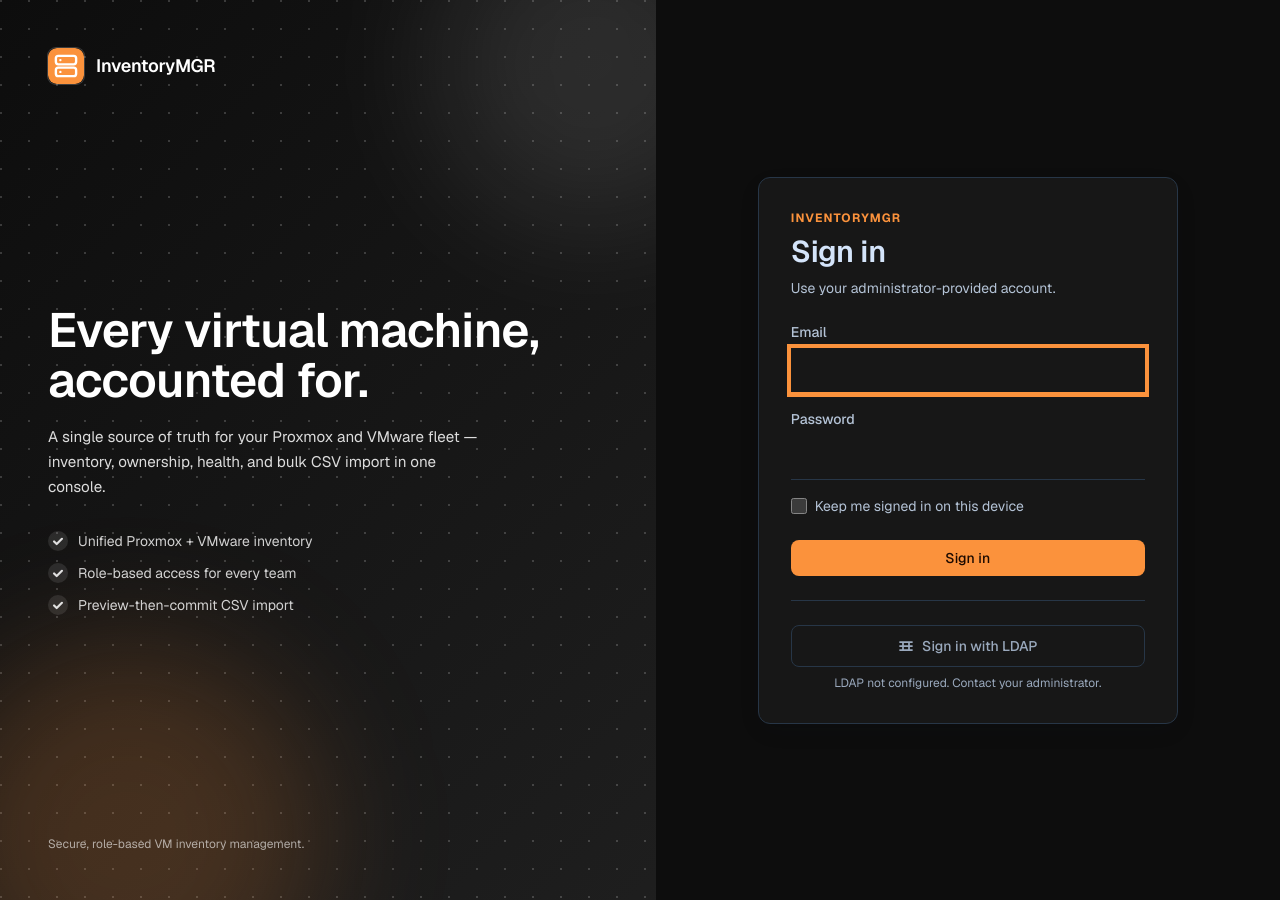
Test: LoginPage sign-in flow › blocks submission and shows field errors when email/password are empty
The image size is (1280, 900).
Expected: the heading "Sign in" is shown, [791,232,886,270]
What coordinates should you click on to do the following:
click the button "Sign in"
I would click on:
 (968, 558)
Its box is [791,540,1145,576].
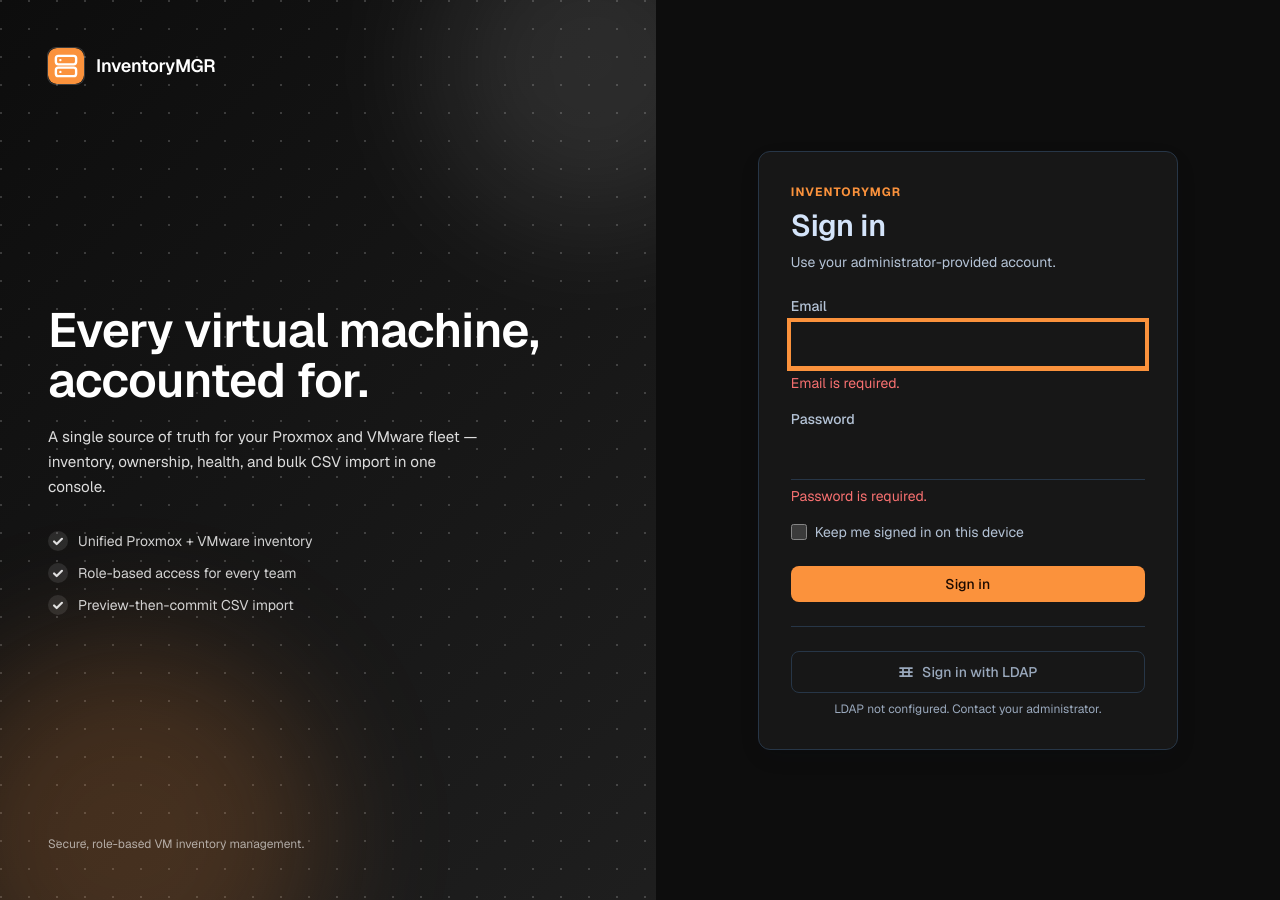
Expected: the text "Email is required." is shown, [791,374,899,392]
Expected: the text "Password is required." is shown, [791,486,927,504]
